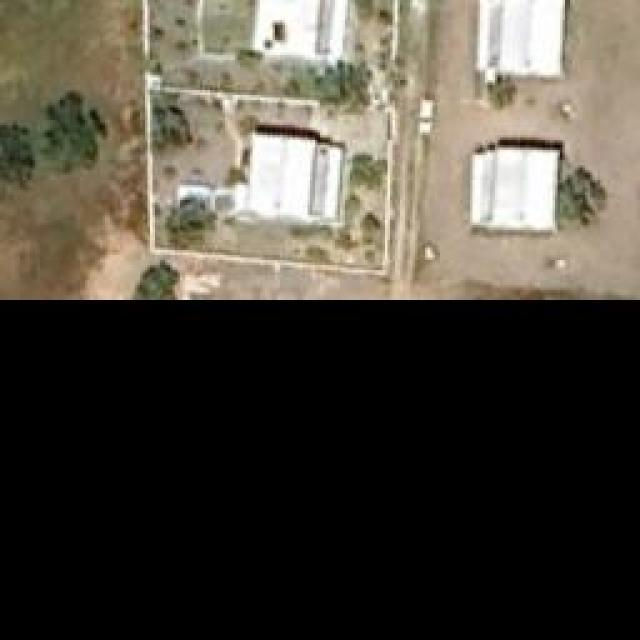Tree: (40, 93, 108, 173), (165, 198, 218, 253), (553, 170, 603, 223), (0, 123, 35, 193), (150, 108, 193, 158), (132, 260, 180, 298), (350, 152, 388, 190)
